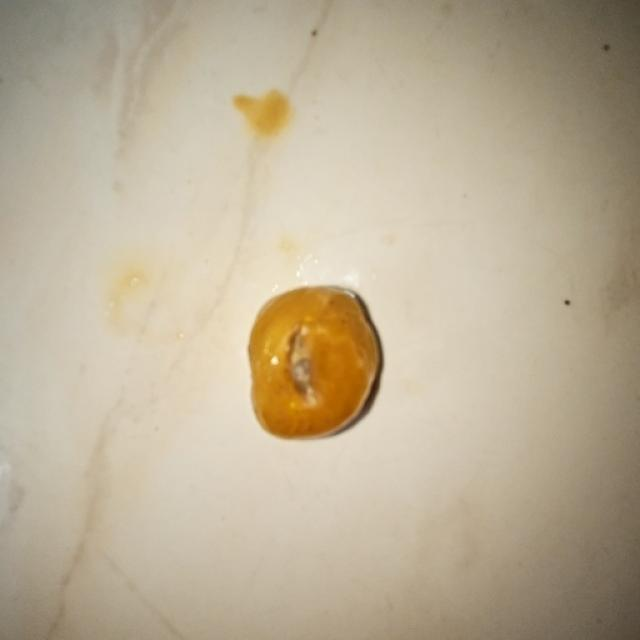Green: (246, 283, 383, 440)
